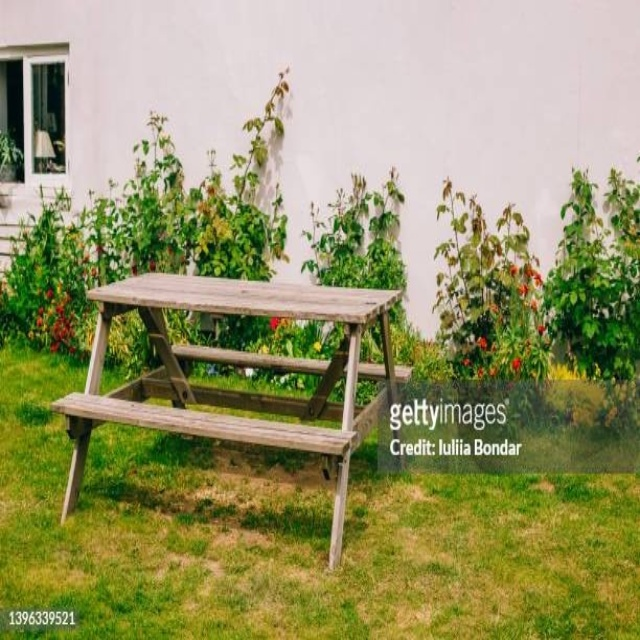obstacle: (51, 273, 401, 566)
